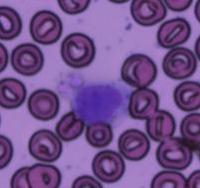L: (70, 76, 129, 124)
